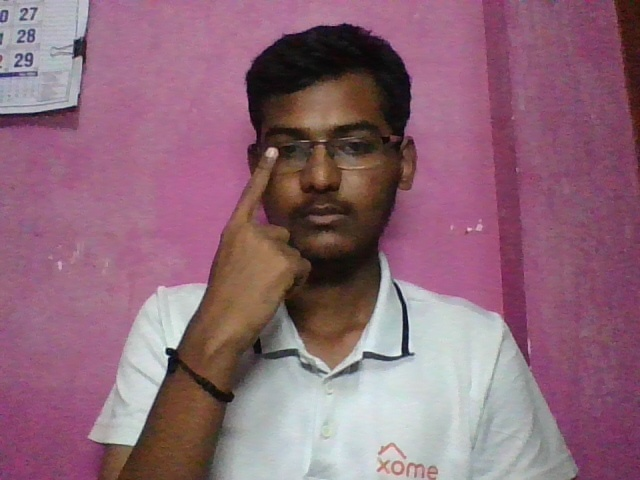Hello: (186, 124, 354, 385)
